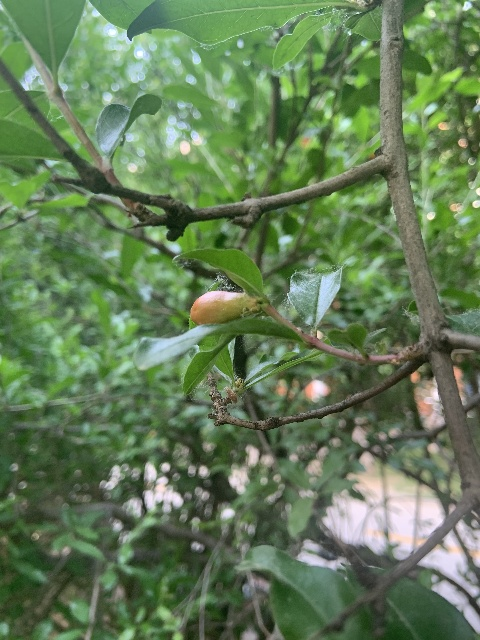bud: (190, 290, 253, 325)
